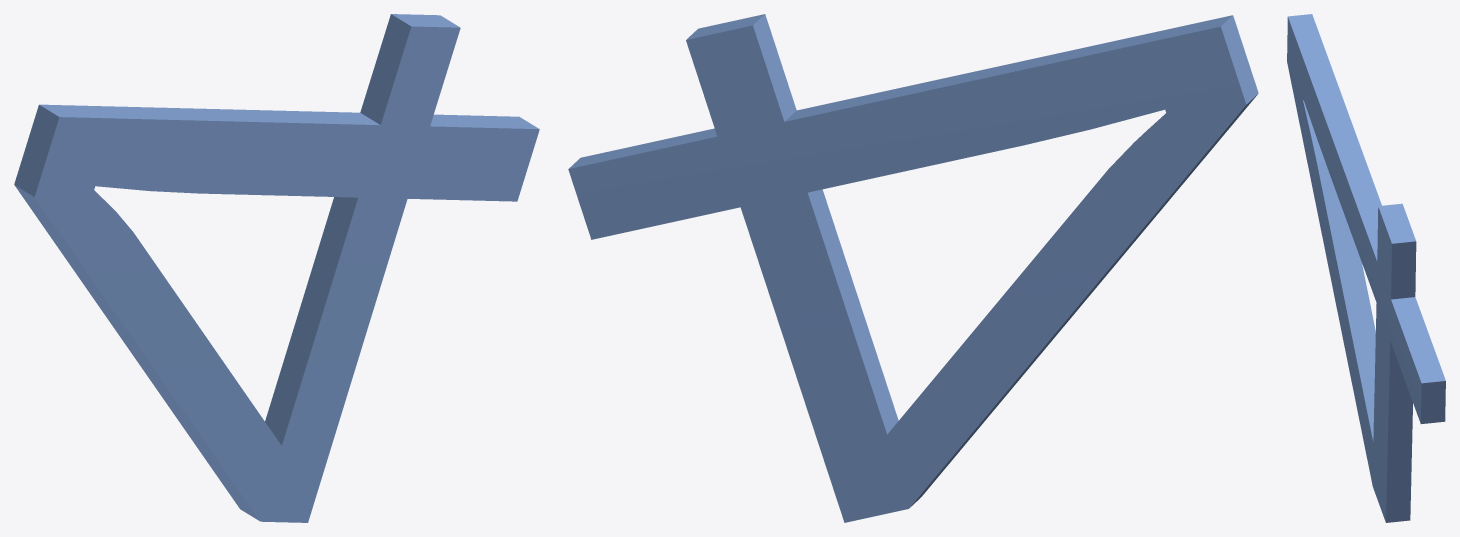
Rendered from New_Number_4.gltf.
The picture shows the model from 3 angles, left to right: view 1: azimuth 30°, elevation 25°; view 2: azimuth 150°, elevation 25°; view 3: azimuth 270°, elevation 25°; orthographic projection. The views are drawn at different scales.
Parts seen in each view (by area): view 1: Part 121; view 2: Part 121; view 3: Part 121.
Boxes of the visible parts, x1,y1,x2,y2 form: Part 121: (14, 14, 539, 522); Part 121: (568, 14, 1258, 522); Part 121: (1287, 14, 1445, 522).
Size of the model in its own units: 0.00531 by 0.00451 by 0.00165.
